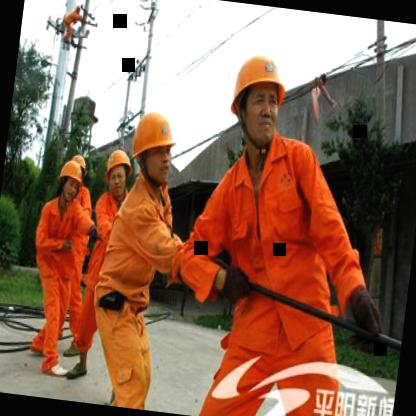helmet: (218, 40, 294, 156), (122, 102, 181, 191), (101, 143, 136, 200), (54, 160, 85, 204)
